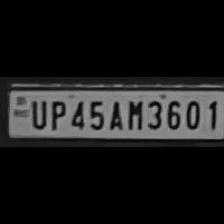0: (180, 97, 202, 129)
1: (204, 97, 220, 130)
3: (144, 97, 162, 130)
4: (66, 97, 86, 129)
5: (84, 97, 106, 130)
6: (162, 97, 182, 129)
A: (105, 97, 124, 130)
M: (123, 97, 143, 130)
P: (46, 97, 66, 129)
U: (27, 97, 47, 128)
